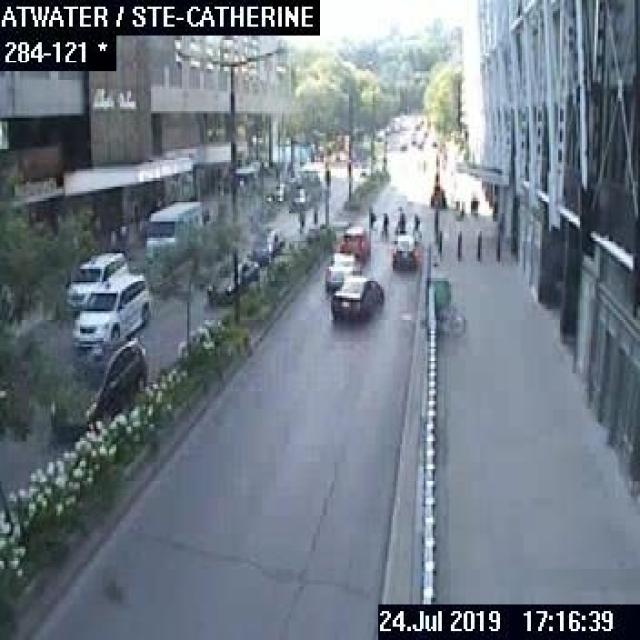pedestrian: (295, 204, 318, 229), (409, 211, 420, 242), (394, 202, 404, 234), (380, 209, 389, 231), (366, 207, 374, 229)
vehicle: (47, 338, 145, 433), (72, 273, 149, 348), (64, 250, 127, 310), (142, 200, 202, 247), (206, 253, 258, 302), (331, 276, 384, 320), (324, 249, 360, 289), (246, 227, 284, 264), (286, 170, 320, 209), (339, 223, 369, 259), (390, 234, 416, 267)
